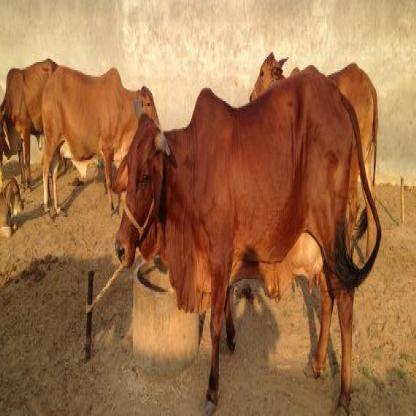cow: (116, 68, 354, 416), (249, 52, 376, 264), (43, 66, 160, 221), (0, 62, 57, 189)
